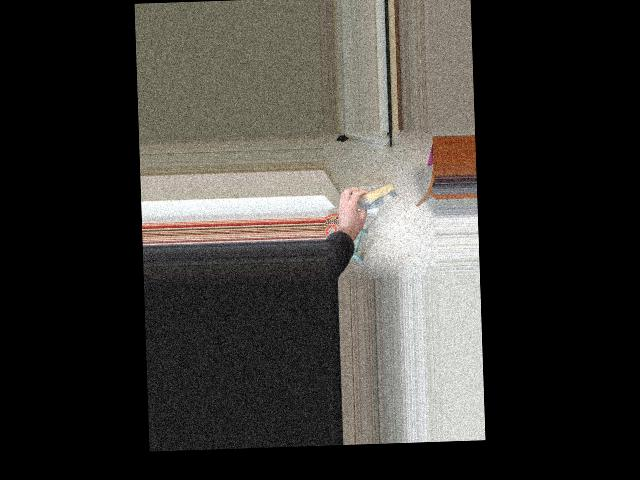cheese: (338, 183, 401, 212)
